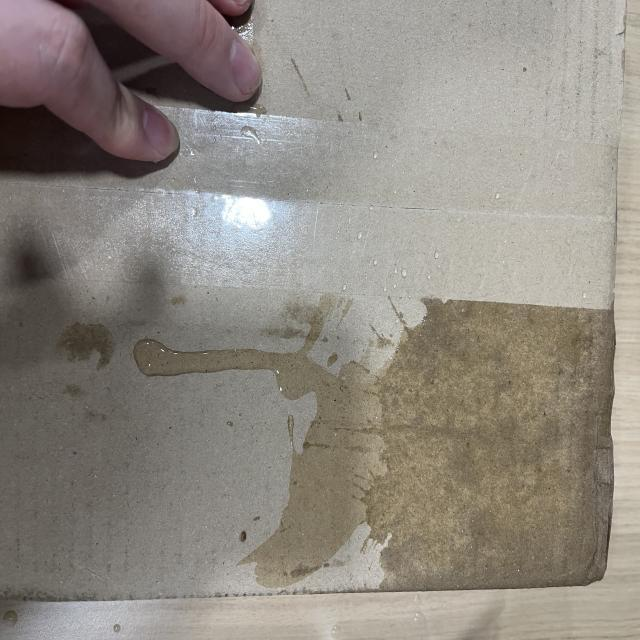wet: (135, 290, 613, 584)
